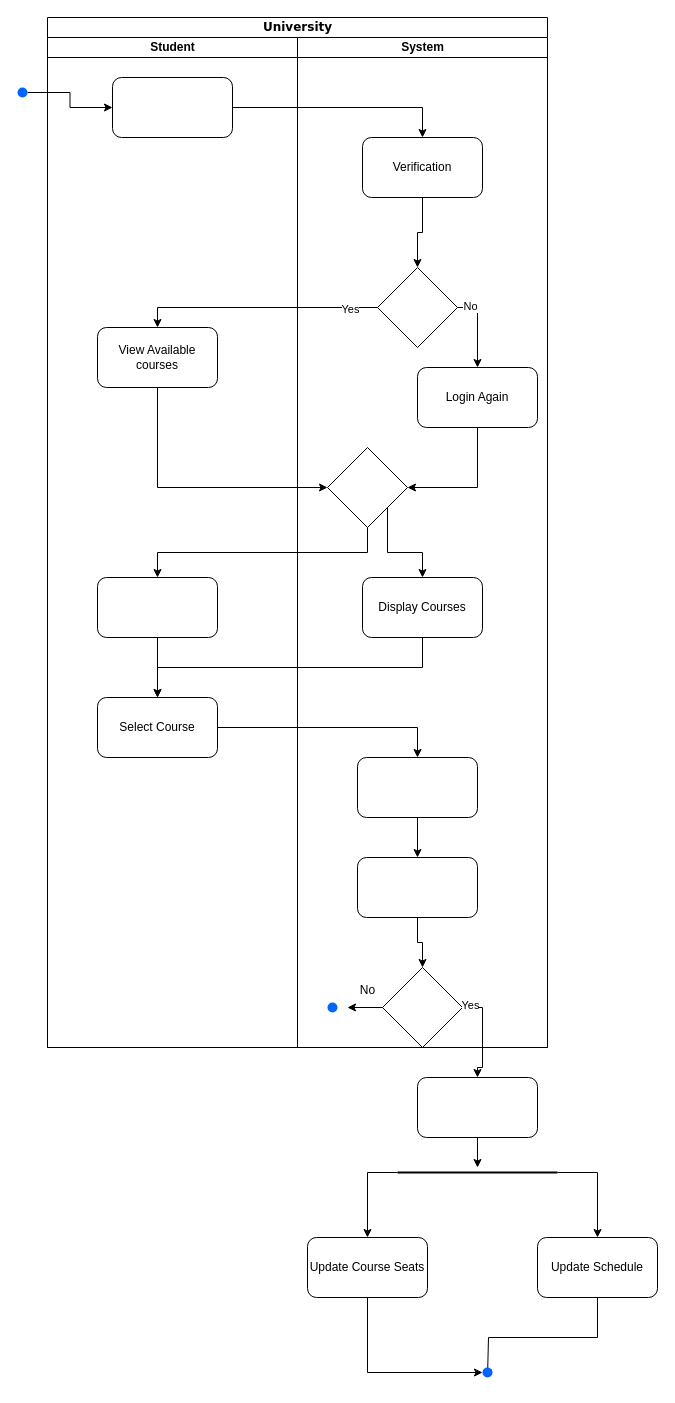
The diagram is 675 pixels wide and 1403 high, and some of its shapes have lost their labels. Here are the shapes that lost their labels. From the top down, the centre of each, then its label:
(172,107): Login (Student_ID and Password)
(157,607): Search Courses
(417,787): Check Prerequisits
(417,887): Validation
(477,1107): Enroll in Course
